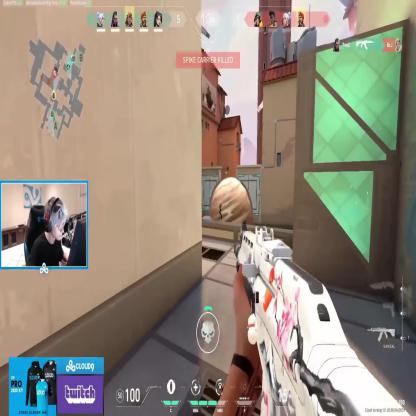enemy: (218, 200, 223, 224)
enemy_head: (219, 201, 221, 206)
